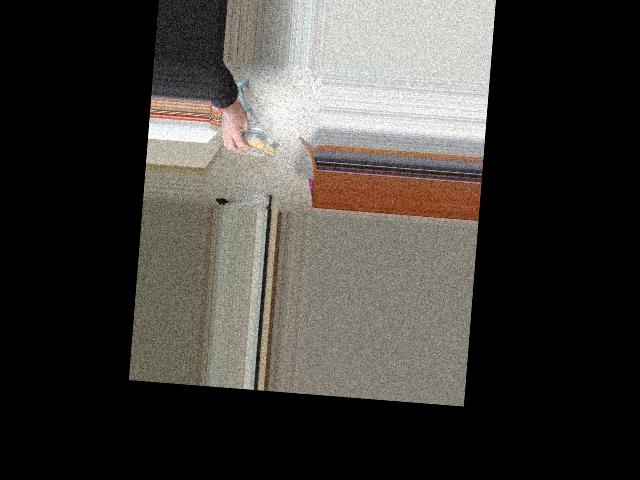cheese: (232, 132, 280, 158)
